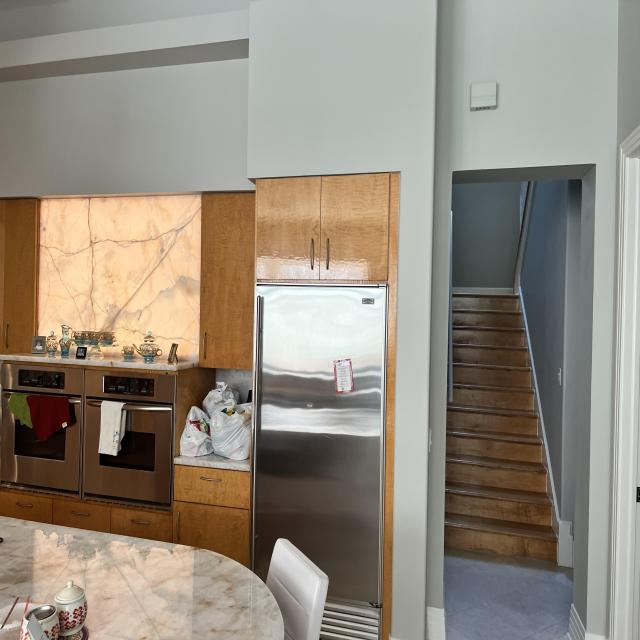Appliance_Fridge: (251, 280, 390, 640)
Appliance_Oven: (83, 368, 215, 506), (0, 361, 84, 493)
Cabinet_Inset: (197, 173, 398, 372), (0, 465, 251, 567), (0, 198, 40, 354)
Countertop_Marble: (0, 516, 286, 640)
